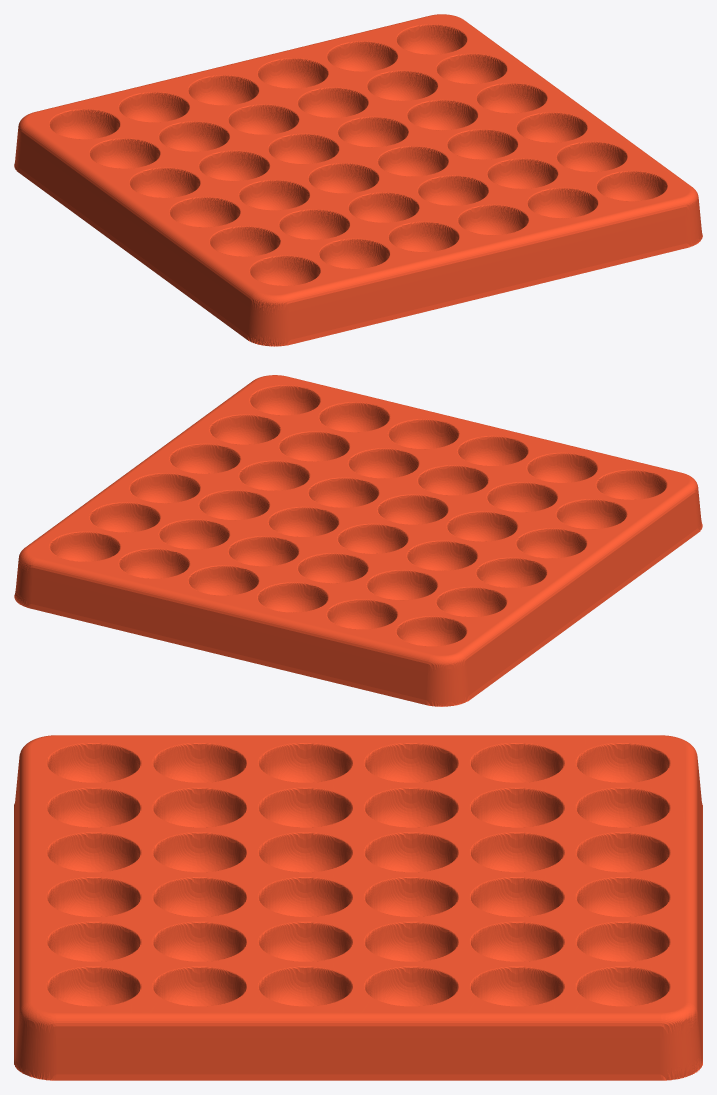
File: mold.glb
3 views of the same model, one above another, from view 1: azimuth 30°, elevation 25°; view 2: azimuth 150°, elevation 25°; view 3: azimuth 270°, elevation 25° (orthographic). The views are drawn at different scales.
Visible parts, largest first — view 1: geometry_0; view 2: geometry_0; view 3: geometry_0.
Part boxes in pixels (x1=…): geometry_0: x1=14, y1=14, x2=702, y2=346; geometry_0: x1=14, y1=375, x2=702, y2=706; geometry_0: x1=14, y1=735, x2=702, y2=1080.
Bounding box in the file's own units: 0.1447 × 0.014 × 0.1447.
